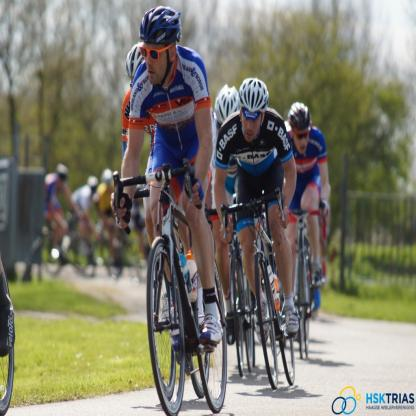Helmet: (135, 7, 180, 76), (237, 75, 269, 118), (214, 82, 238, 126), (290, 100, 311, 134), (127, 40, 143, 79)
